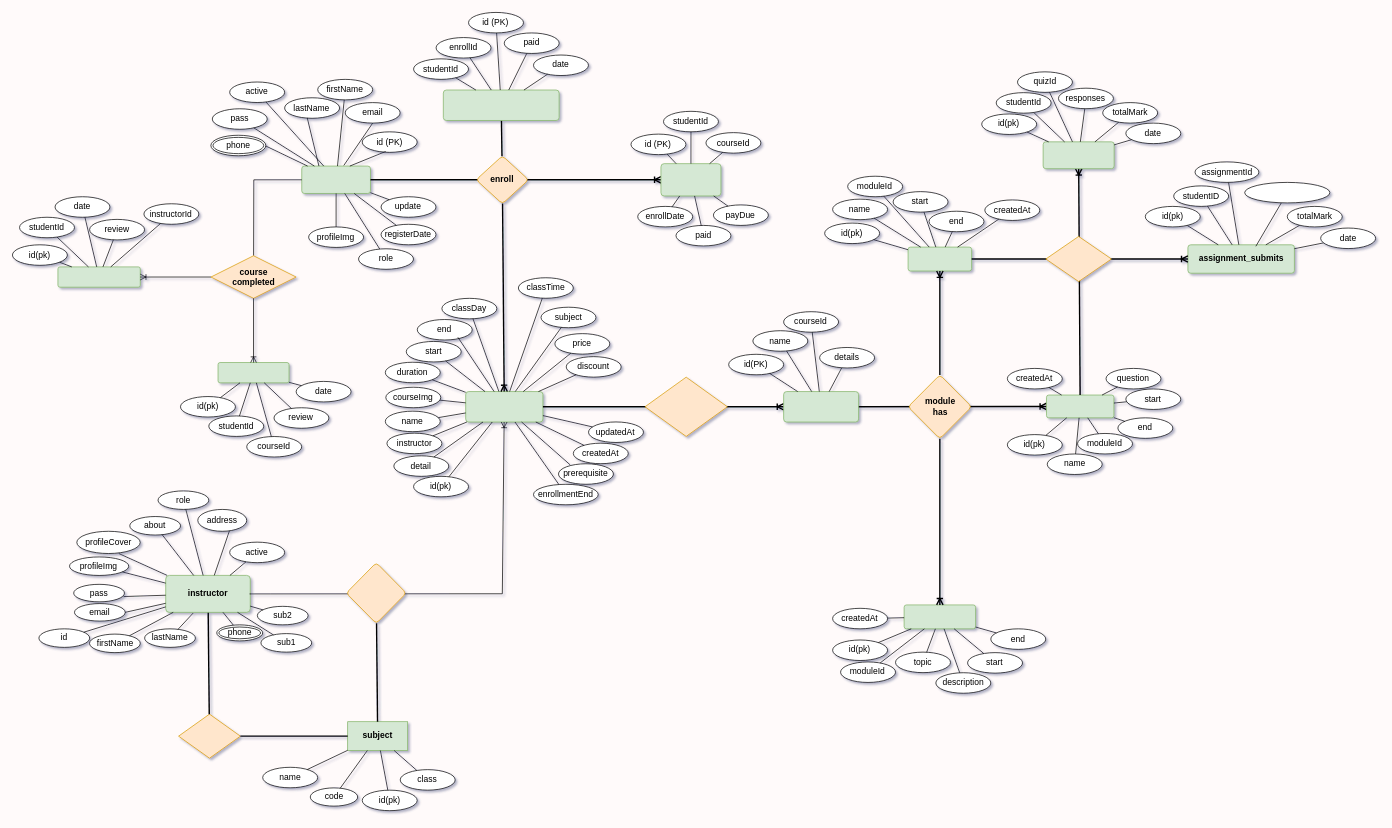
This 1392x828 diagram has some shape labels left out. Here are the shapes that lost their labels. From the top down, the box of each, then its label:
(443, 89, 559, 120): student_payment_table
(1042, 141, 1114, 169): quizSubmit
(301, 165, 370, 193): student
(660, 163, 721, 196): enrollment
(1244, 182, 1330, 203): sub_assignment
(57, 266, 140, 287): instructor_review
(907, 246, 972, 271): assignment
(1045, 236, 1112, 282): submission
(217, 362, 289, 383): course_review
(465, 391, 543, 422): course
(644, 376, 727, 436): module created
(783, 391, 859, 422): modules
(1046, 394, 1114, 418): quiz
(346, 562, 406, 624): course offer
(903, 604, 976, 629): live_class
(178, 713, 240, 758): registration
